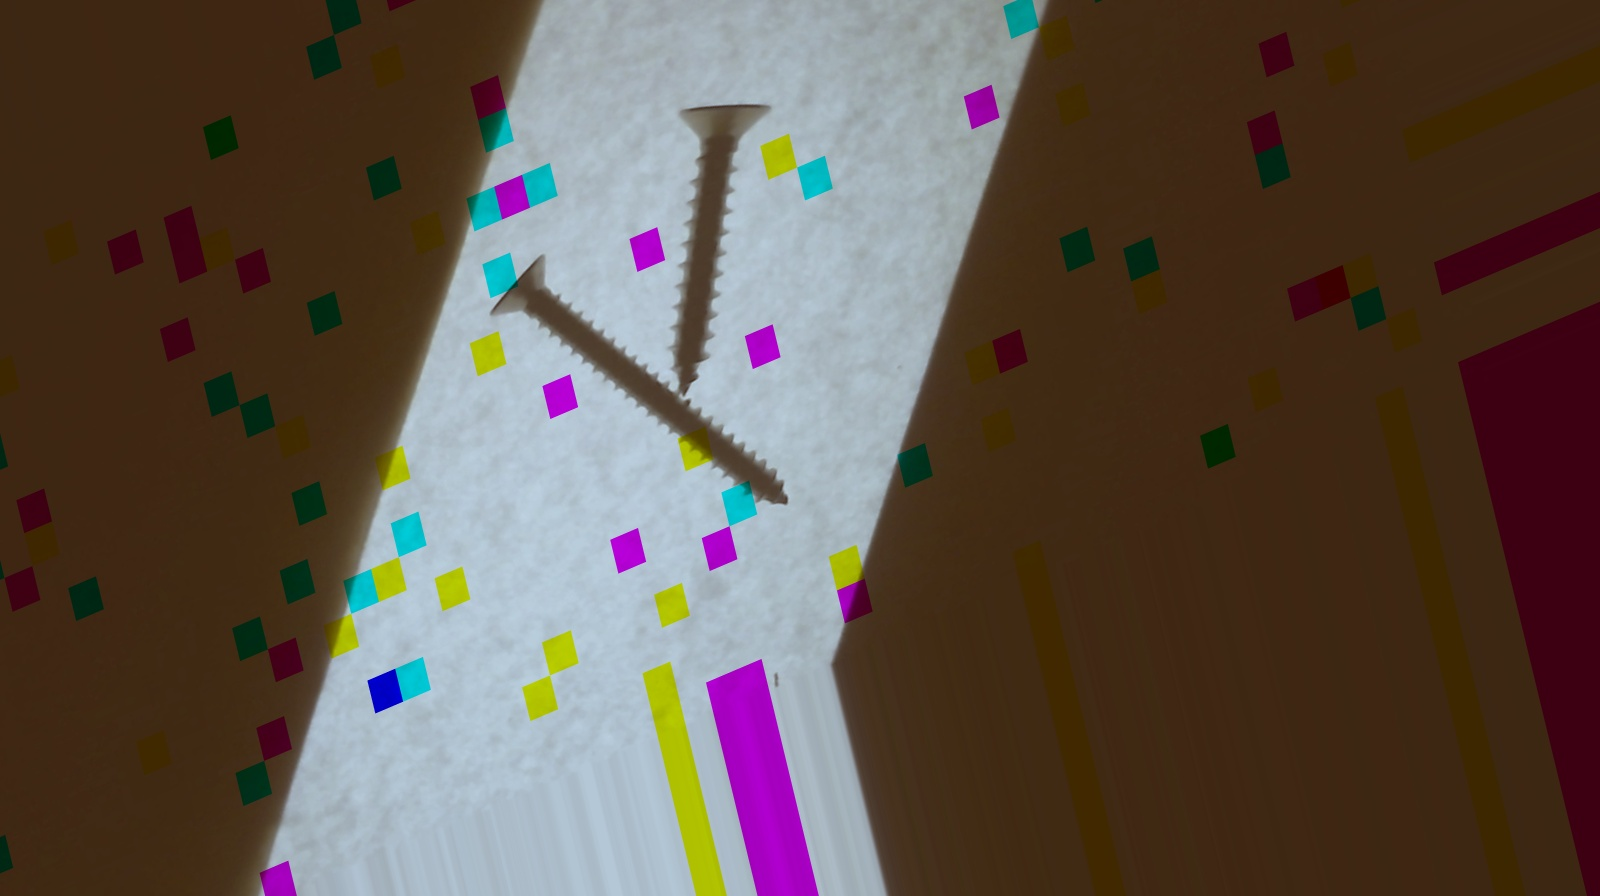S001: (607, 57, 837, 395)
S002: (485, 173, 804, 610)
